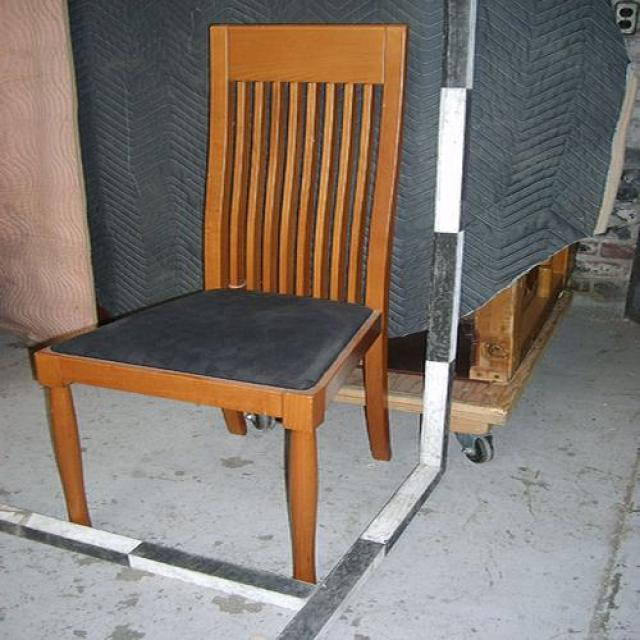chair: (31, 26, 410, 586)
